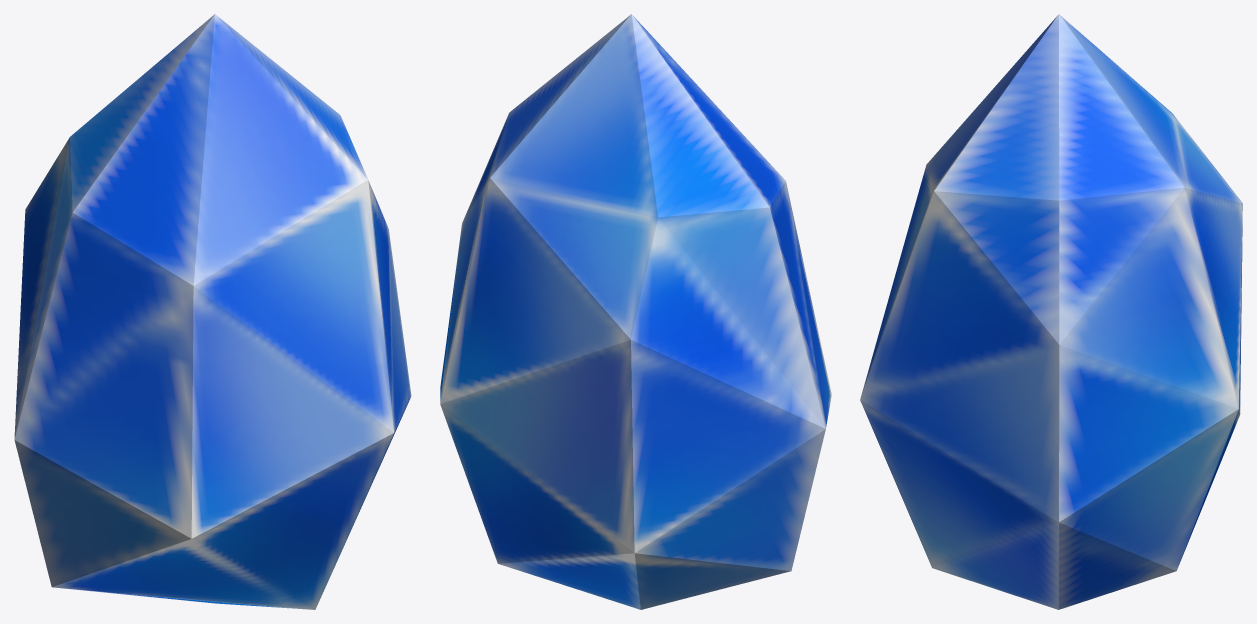
File: item_010.fbx
3 views of the same model, side by side, from view 1: azimuth 30°, elevation 25°; view 2: azimuth 150°, elevation 25°; view 3: azimuth 270°, elevation 25° (orthographic). The views are drawn at different scales.
Visible parts, largest first — view 1: item010_blue; view 2: item010_blue; view 3: item010_blue.
Part boxes in pixels (bbox=[...]): item010_blue: bbox=[14, 14, 411, 609]; item010_blue: bbox=[440, 14, 831, 609]; item010_blue: bbox=[860, 14, 1242, 609].
Bounding box in the file's own units: 0.2076 × 0.2949 × 0.1796.
